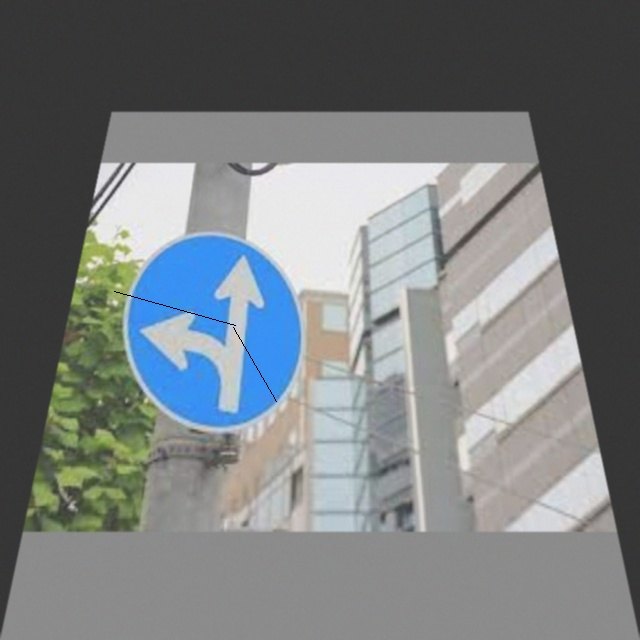Compulsory_Ahead_or_Turn_Left: (107, 230, 308, 422)
